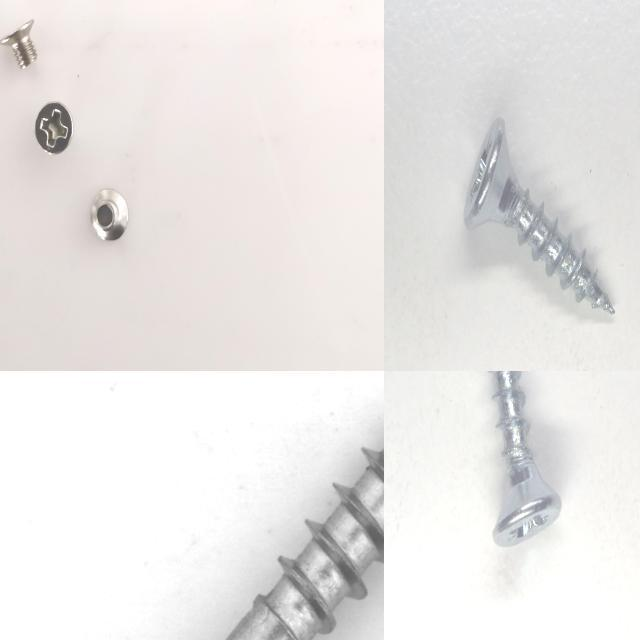Screw: (23, 371, 384, 640), (464, 116, 614, 313), (490, 371, 561, 546), (30, 96, 74, 158), (88, 182, 130, 246), (0, 17, 39, 74)
